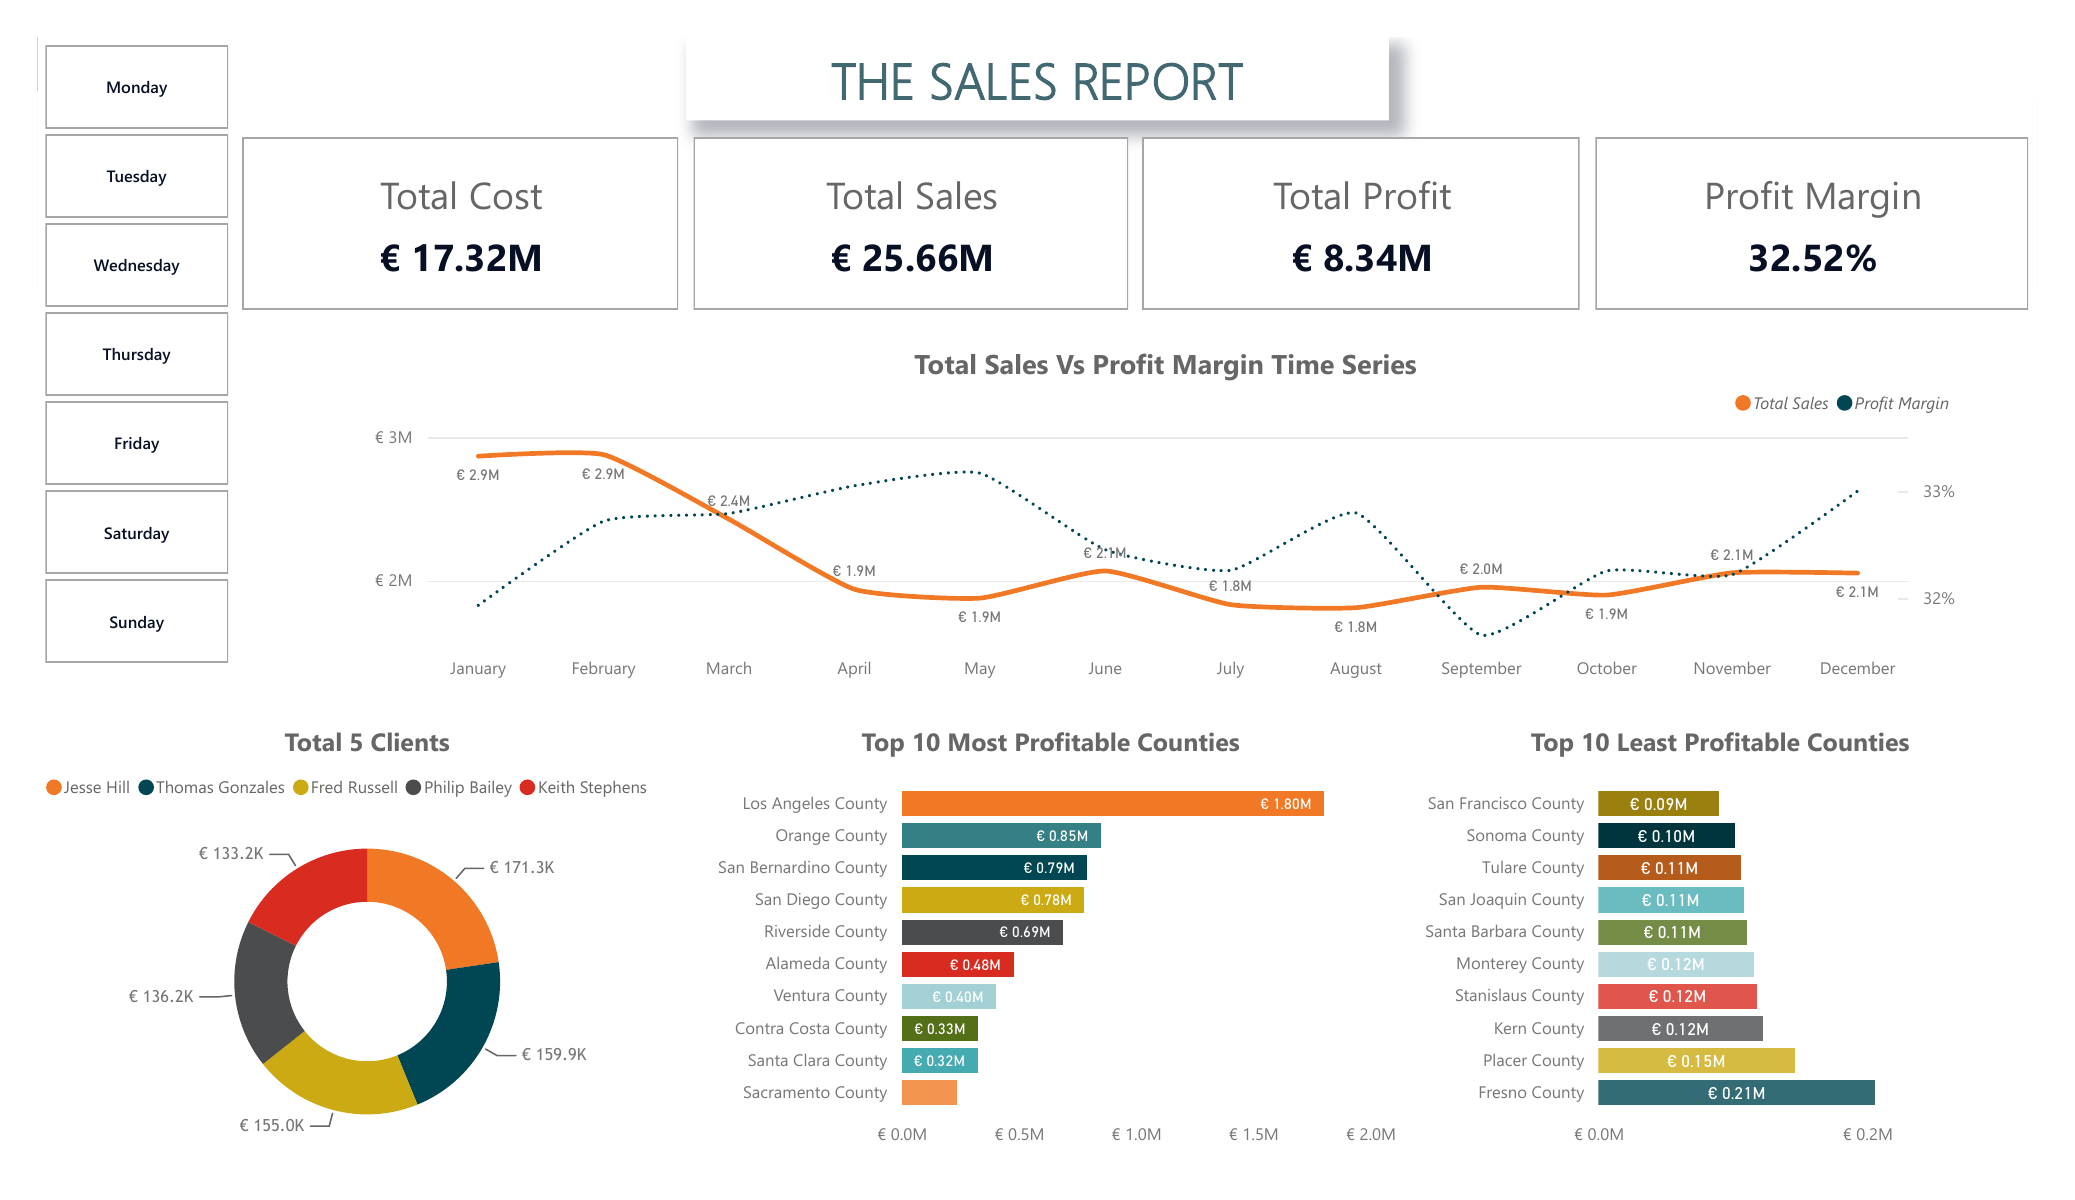

This screenshot's page, from the dashboard's own definition file:
{"tool":"powerbi","page":{"name":"Final Report","canvas":[1280,720],"ordinal":1},"visuals":[{"type":"textbox","box":[415.2,0,449.6,52.9],"z":0},{"type":"cardVisual","fields":{"Data":["MeasureTbl.Total Cost"]},"box":[125.6,59.3,289.2,119.3],"z":1000},{"type":"cardVisual","fields":{"Data":["MeasureTbl.Total Sales Measure"]},"box":[414.8,59.3,288.4,119.3],"z":2000},{"type":"cardVisual","fields":{"Data":["MeasureTbl.Total Profit"]},"box":[702.4,59.3,289.2,119.3],"z":3000},{"type":"cardVisual","fields":{"Data":["MeasureTbl.Profit Margin"]},"box":[991.6,59.3,287.6,119.3],"z":4000},{"type":"donutChart","title":"Total 5 Clients","fields":{"Category":["Customer Data.Customer Name"],"Y":["MeasureTbl.Total Sales"]},"box":[0,440.1,421.9,279.7],"z":5000},{"type":"barChart","title":"Top 10 Most Profitable Counties","fields":{"Category":["Location Data.County"],"Series":["Location Data.County"],"Y":["MeasureTbl.Total Profit"]},"box":[421.9,440.1,453.5,279.7],"z":6000},{"type":"barChart","title":"Top 10 Least Profitable Counties","fields":{"Category":["Location Data.County"],"Series":["Location Data.County"],"Y":["MeasureTbl.Total Profit"]},"box":[876,440,404,280],"z":7000},{"type":"lineChart","title":"Total Sales Vs Profit Margin Time Series","fields":{"Y":["MeasureTbl.Total Sales"],"Category":["Dates.Date.Variation.Date Hierarchy.Quarter","Dates.Date.Variation.Date Hierarchy.Month"],"Y2":["MeasureTbl.Profit Margin"]},"box":[211,196.7,1021.6,225.2],"z":8000},{"type":"advancedSlicerVisual","fields":{"Values":["Dates.DayOfWeekName"]},"box":[0,0,127.2,411.7],"z":9000}]}

Visuals, with their boxes on the page's 1280x720 design canvas (x1, y1, x2, y2). These are canvas units, not pixel positions in the 2075x1200 screenshot, which may show the page scaled, cropped or inside an application window:
textbox: {"x1": 415, "y1": 0, "x2": 865, "y2": 53}
cardVisual - MeasureTbl.Total Cost: {"x1": 126, "y1": 59, "x2": 415, "y2": 179}
cardVisual - MeasureTbl.Total Sales Measure: {"x1": 415, "y1": 59, "x2": 703, "y2": 179}
cardVisual - MeasureTbl.Total Profit: {"x1": 702, "y1": 59, "x2": 992, "y2": 179}
cardVisual - MeasureTbl.Profit Margin: {"x1": 992, "y1": 59, "x2": 1279, "y2": 179}
"Total 5 Clients" donutChart: {"x1": 0, "y1": 440, "x2": 422, "y2": 720}
"Top 10 Most Profitable Counties" barChart: {"x1": 422, "y1": 440, "x2": 875, "y2": 720}
"Top 10 Least Profitable Counties" barChart: {"x1": 876, "y1": 440, "x2": 1280, "y2": 720}
"Total Sales Vs Profit Margin Time Series" lineChart: {"x1": 211, "y1": 197, "x2": 1233, "y2": 422}
advancedSlicerVisual - Dates.DayOfWeekName: {"x1": 0, "y1": 0, "x2": 127, "y2": 412}
